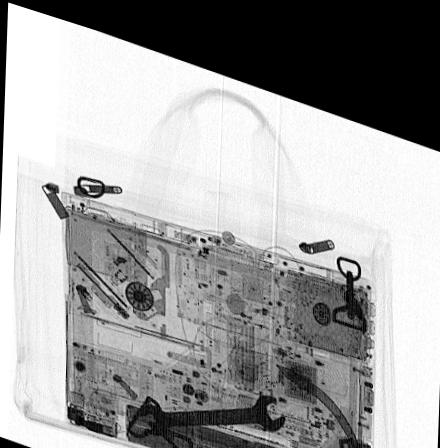Wrench: (134, 376, 286, 426)
